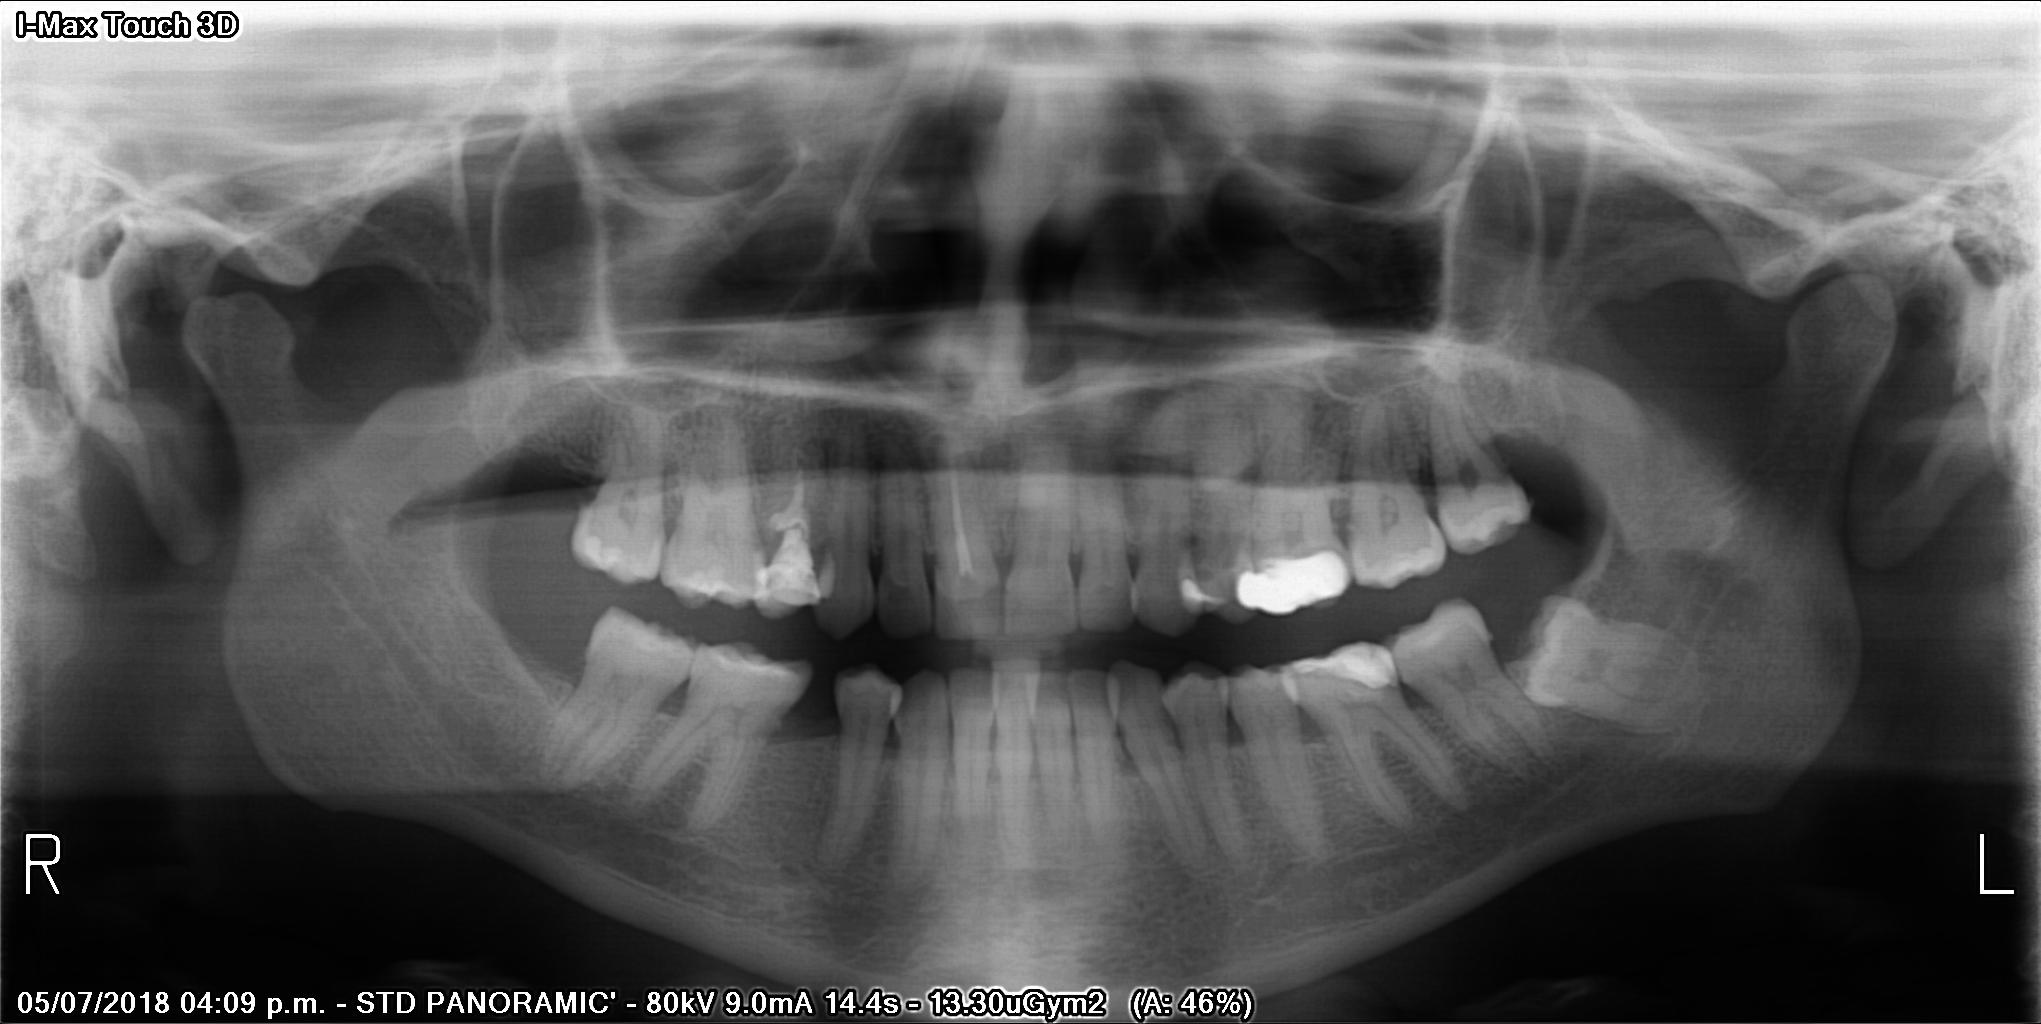Çürük: (1225, 546, 1367, 619), (742, 533, 827, 619), (1331, 632, 1406, 697), (1177, 573, 1225, 610)
